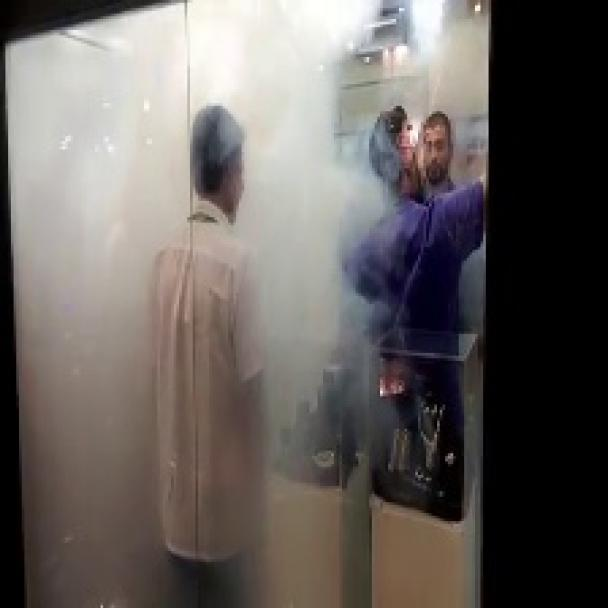smoke: (0, 0, 478, 606)
